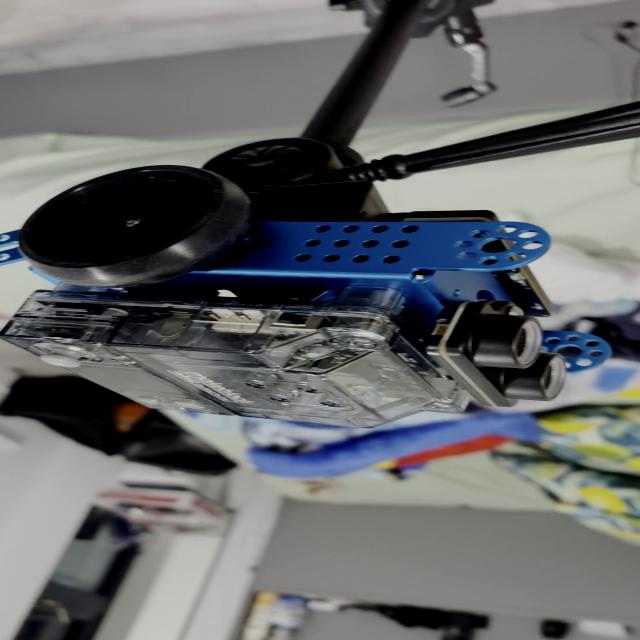mbot-detection: (0, 155, 618, 434)
